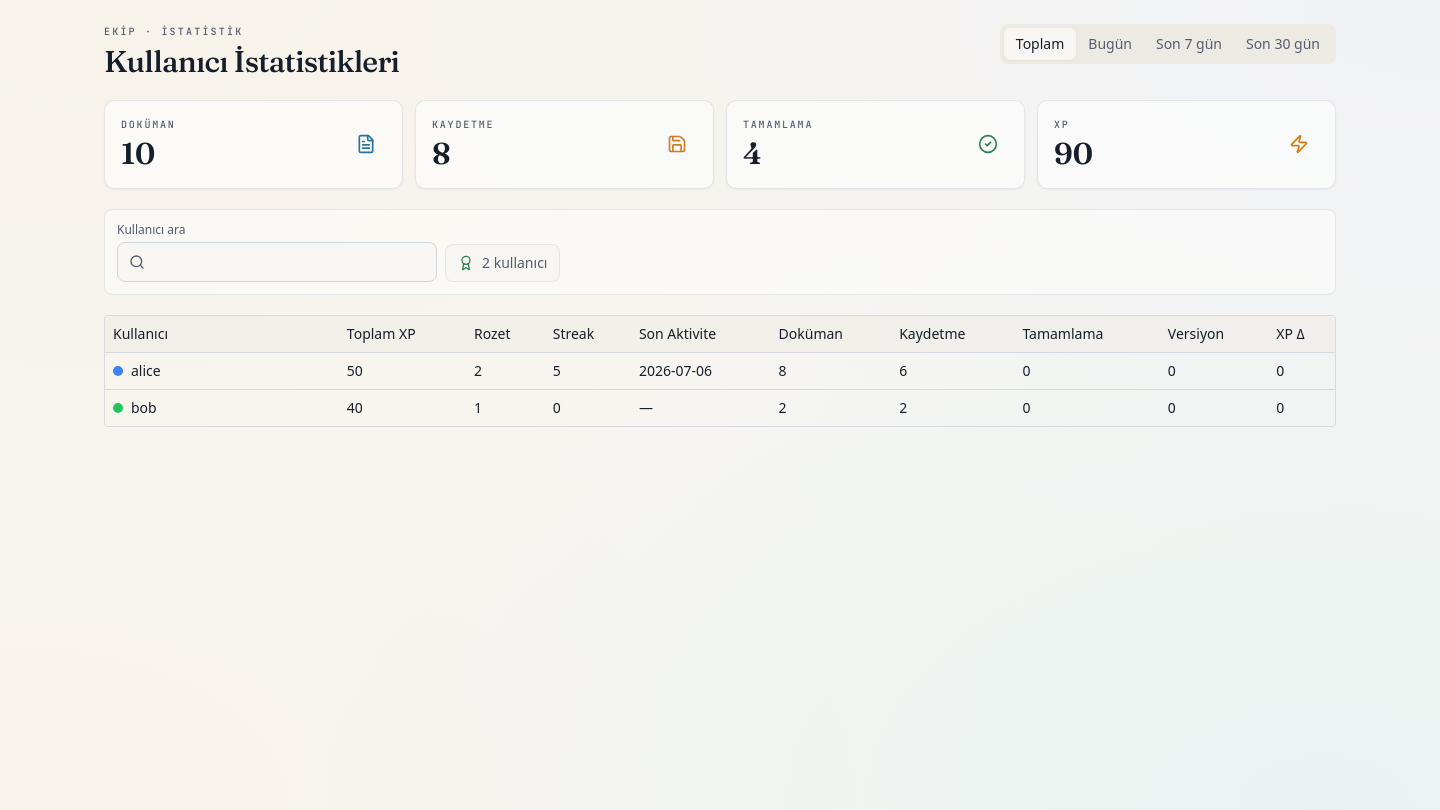
Test case: Statistics route › renders summary cards, switches period, and filters users
The image size is (1440, 810).
Expected: the heading "Kullanıcı İstatistikleri" is shown, [104, 44, 399, 80]
Expected: the text named "Özet kaydedilen doküman sayısı" reads "8", [432, 135, 450, 172]
Click the tab "Son 7 gün".
click(1189, 44)  # box [1144, 28, 1234, 60]
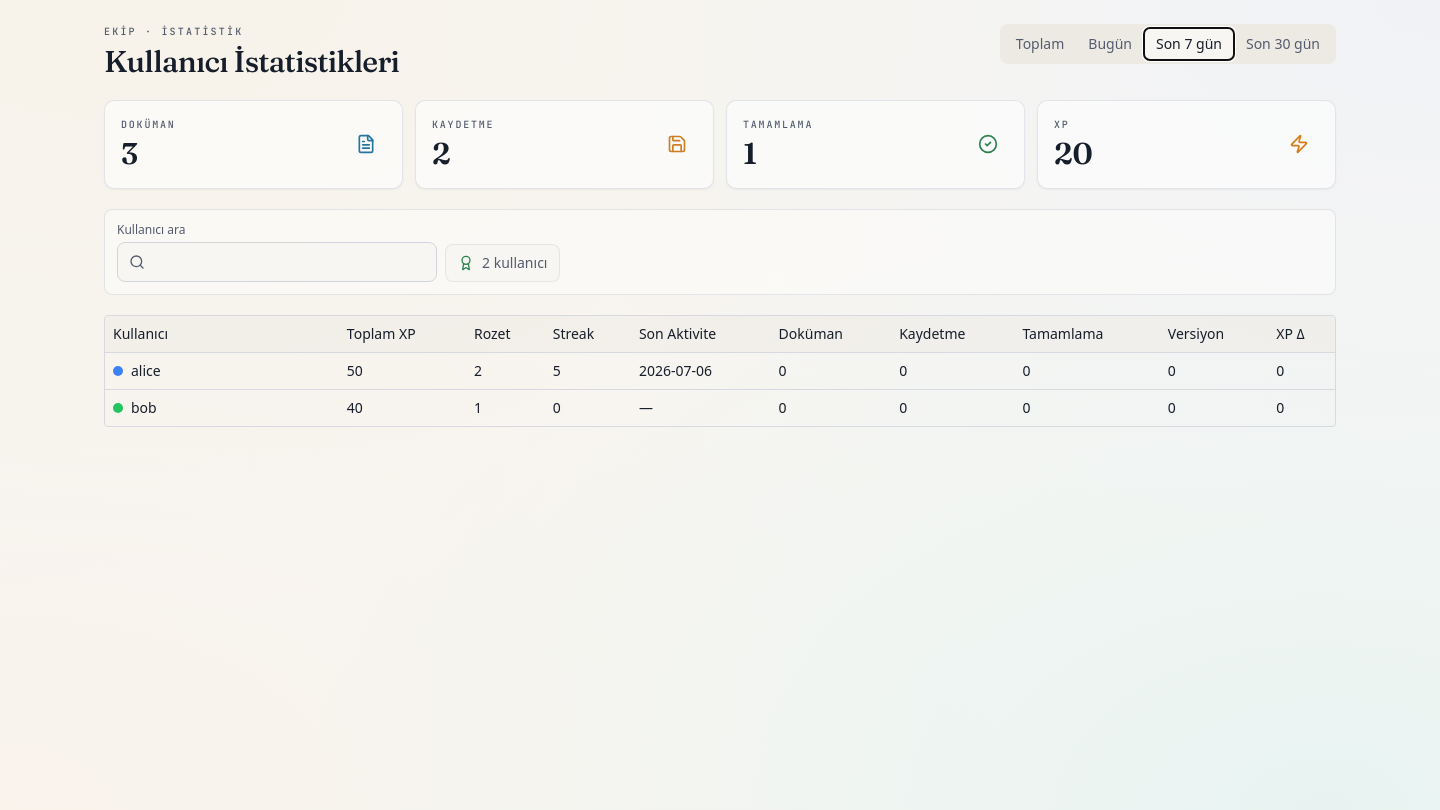
Now the text named "Özet kaydedilen doküman sayısı" reads "2", box [432, 135, 450, 172]
Type "bob" into the field labelled "Kullanıcı ara".
click(277, 262); type("bob")  # box [117, 242, 437, 282]
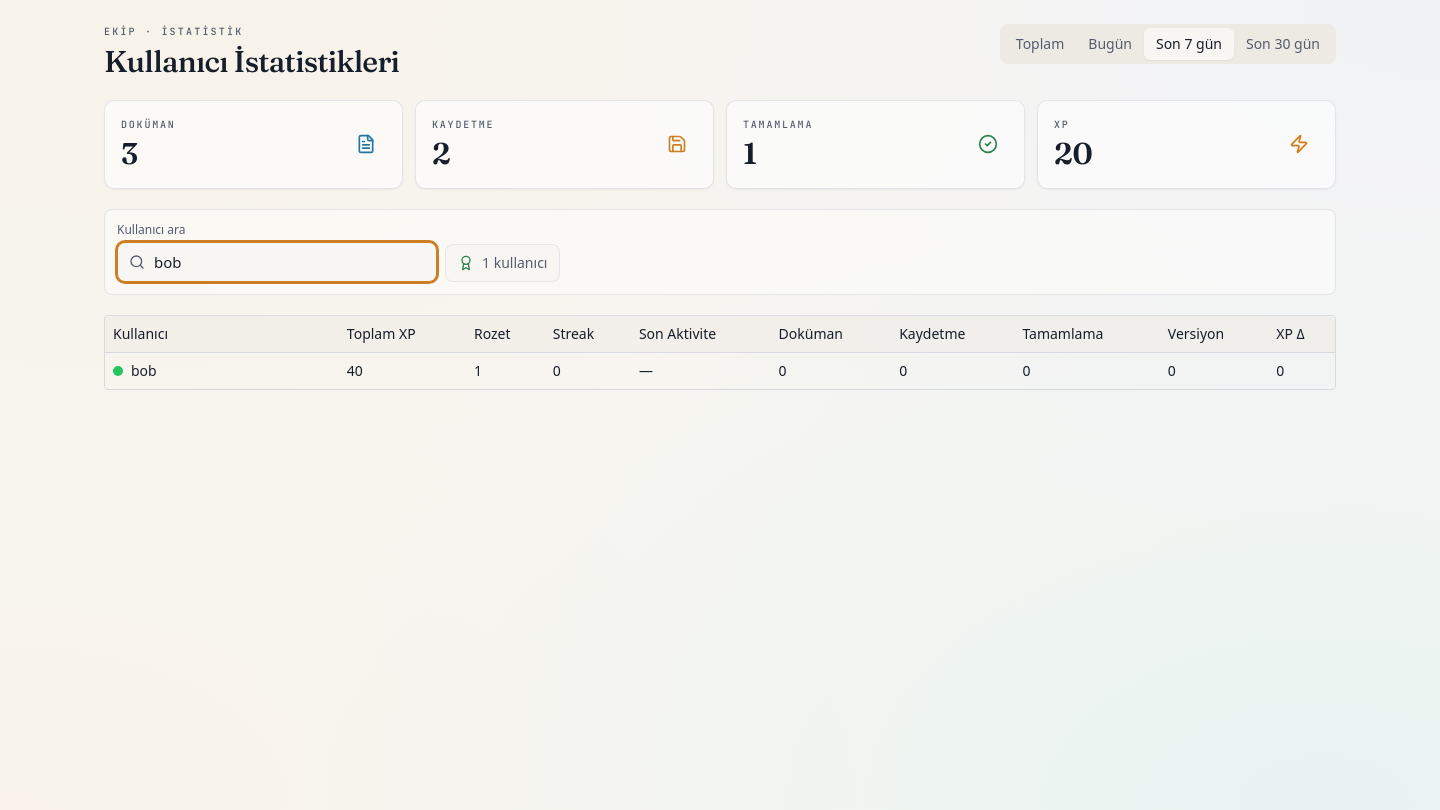
Expected: the text "bob" is shown, [131, 361, 157, 381]
Now the text "alice" is gone
